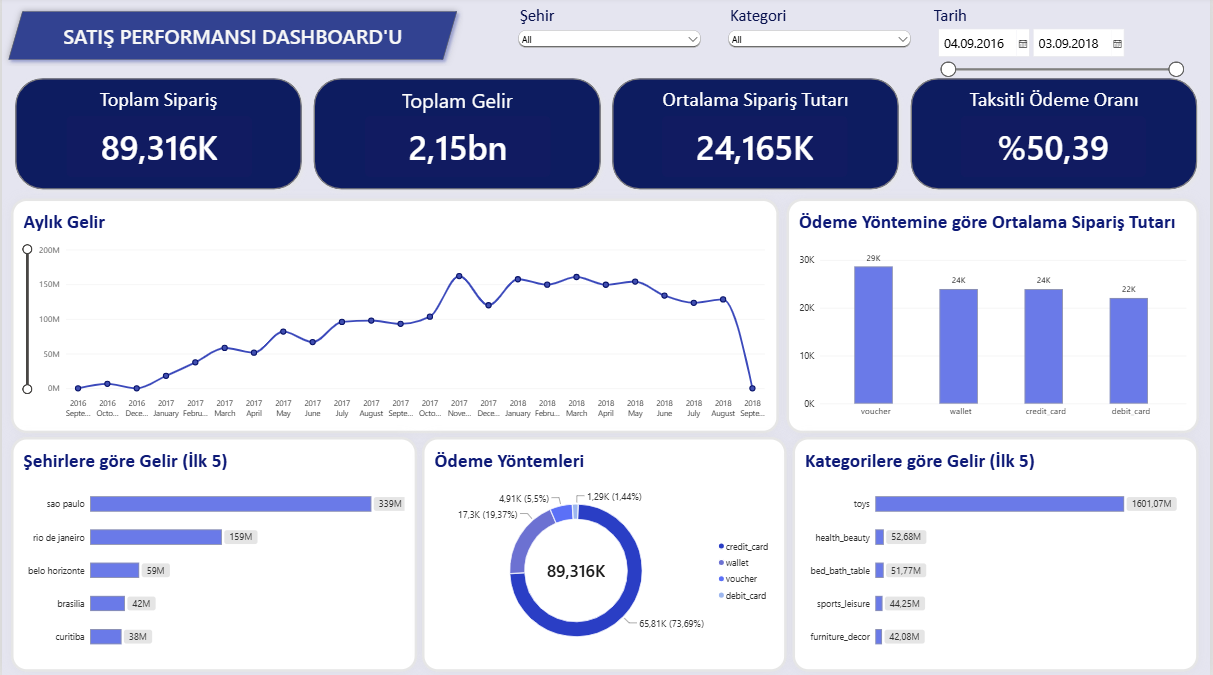

What the dashboard file says about the page in this screenshot:
{"tool":"powerbi","page":{"name":"Page 1","canvas":[1920,1080],"ordinal":0},"visuals":[{"type":"shape","box":[0,15,734,97],"z":0},{"type":"shape","box":[11,122,474,195],"z":1000},{"type":"cardVisual","fields":{"Data":["df_Customers.Total Orders"]},"box":[103,191,295,97],"z":2000},{"type":"shape","box":[961.5,122,474,195],"z":3000},{"type":"shape","box":[1436.3,122,474,195],"z":4000},{"type":"shape","box":[486.7,122,474.8,195],"z":5000},{"type":"cardVisual","fields":{"Data":["df_Customers.Revenue"]},"box":[577.4,191,295,97],"z":6000},{"type":"cardVisual","fields":{"Data":["df_Customers.AverageOrderValue"]},"box":[1049.8,191,295,97],"z":7000},{"type":"cardVisual","fields":{"Data":["df_Customers.InstallmentRate"]},"box":[1524.6,191,295,97],"z":8000},{"type":"lineChart","title":"Aylık Gelir","fields":{"Category":["df_Orders.order_purchase_timestamp.Variation.Date Hierarchy.Year","df_Orders.order_purchase_timestamp.Variation.Date Hierarchy.Month"],"Y":["df_Customers.Revenue"]},"box":[15,322,1221,373],"z":9000},{"type":"clusteredColumnChart","title":"Ödeme Yöntemine göre Ortalama Sipariş Tutarı","fields":{"Category":["df_Payments.payment_type"],"Y":["df_Customers.AverageOrderValue"]},"box":[1248,322,656,373],"z":9001},{"type":"clusteredBarChart","title":"Şehirlere göre Gelir (İlk 5)","fields":{"Category":["df_Customers.customer_city"],"Y":["df_Customers.Revenue"]},"box":[14.3,702,646,373],"z":9002},{"type":"donutChart","title":"Ödeme Yöntemleri","fields":{"Category":["df_Payments.payment_type"],"Y":["CountNonNull(df_Orders.order_id)"]},"box":[667,702,579.8,373],"z":9003},{"type":"clusteredBarChart","title":"Kategorilere göre Gelir (İlk 5)","fields":{"Category":["df_Products.product_category_name"],"Y":["df_Customers.Revenue"]},"box":[1258,702,646,373],"z":9004},{"type":"slicer","fields":{"Values":["df_Customers.customer_city"]},"box":[817,15,300.6,87],"z":9005},{"type":"slicer","fields":{"Values":["df_Products.product_category_name"]},"box":[1149,15,300.6,87],"z":9006},{"type":"slicer","title":"Tarih","fields":{"Values":["df_Orders.order_purchase_timestamp"]},"box":[1482,15,402,115],"z":9007}]}

Visuals, with their boxes in screenshot pixels (x1, y1, x2, y2), scaled from the page's 1920x1080 canvas onto the 1213x675 screenshot:
shape: {"left": 0, "top": 9, "right": 464, "bottom": 70}
shape: {"left": 7, "top": 76, "right": 306, "bottom": 198}
cardVisual - df_Customers.Total Orders: {"left": 65, "top": 119, "right": 251, "bottom": 180}
shape: {"left": 607, "top": 76, "right": 907, "bottom": 198}
shape: {"left": 907, "top": 76, "right": 1207, "bottom": 198}
shape: {"left": 307, "top": 76, "right": 607, "bottom": 198}
cardVisual - df_Customers.Revenue: {"left": 365, "top": 119, "right": 551, "bottom": 180}
cardVisual - df_Customers.AverageOrderValue: {"left": 663, "top": 119, "right": 850, "bottom": 180}
cardVisual - df_Customers.InstallmentRate: {"left": 963, "top": 119, "right": 1150, "bottom": 180}
"Aylık Gelir" lineChart: {"left": 9, "top": 201, "right": 781, "bottom": 434}
"Ödeme Yöntemine göre Ortalama Sipariş Tutarı" clusteredColumnChart: {"left": 788, "top": 201, "right": 1203, "bottom": 434}
"Şehirlere göre Gelir (İlk 5)" clusteredBarChart: {"left": 9, "top": 439, "right": 417, "bottom": 672}
"Ödeme Yöntemleri" donutChart: {"left": 421, "top": 439, "right": 788, "bottom": 672}
"Kategorilere göre Gelir (İlk 5)" clusteredBarChart: {"left": 795, "top": 439, "right": 1203, "bottom": 672}
slicer - df_Customers.customer_city: {"left": 516, "top": 9, "right": 706, "bottom": 64}
slicer - df_Products.product_category_name: {"left": 726, "top": 9, "right": 916, "bottom": 64}
"Tarih" slicer: {"left": 936, "top": 9, "right": 1190, "bottom": 81}
